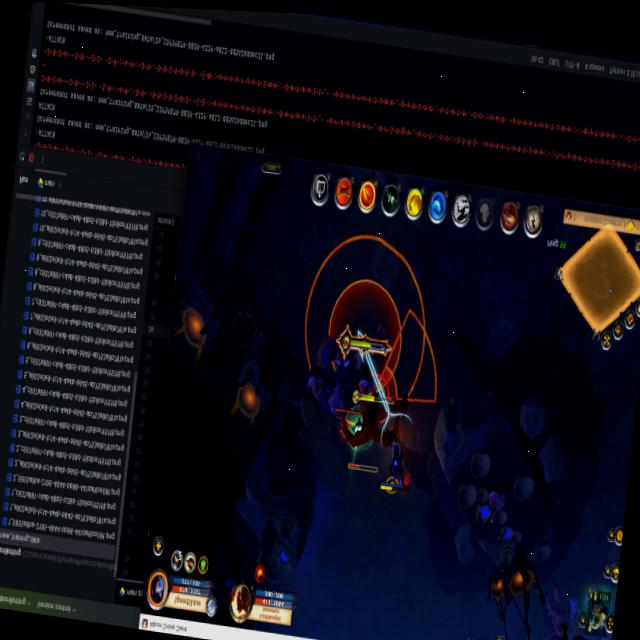ore: (300, 302, 394, 432), (335, 358, 411, 484), (534, 580, 580, 640)
red: (374, 432, 418, 504)
silver: (300, 229, 428, 430), (376, 301, 437, 405)
